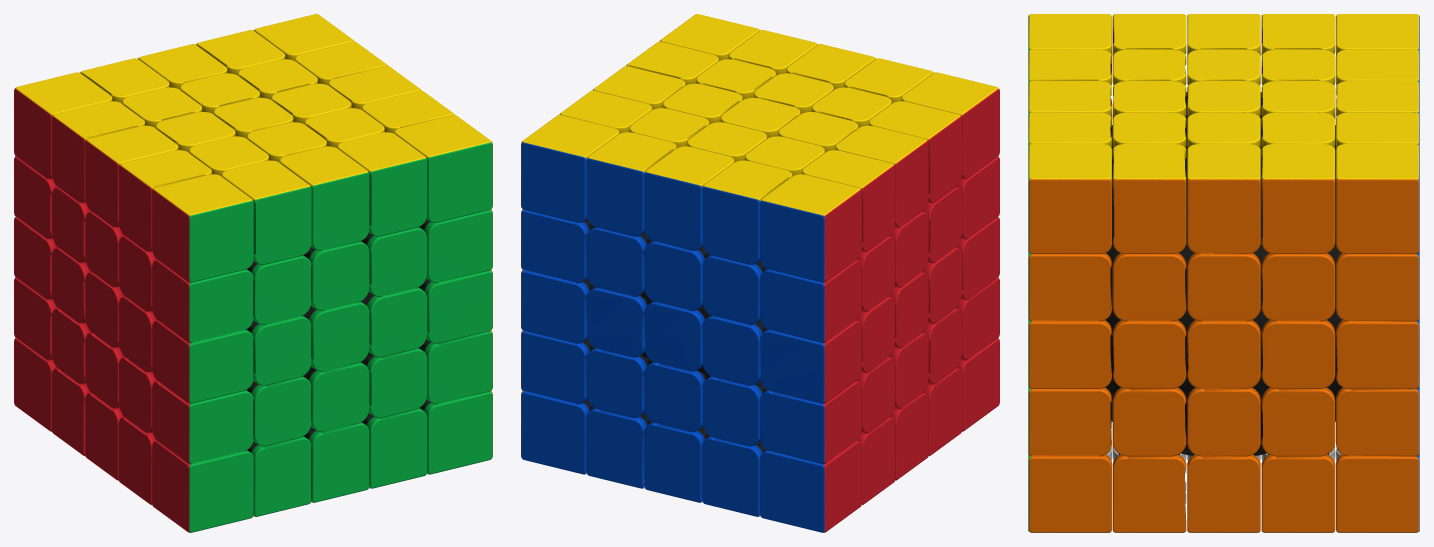
3 views of the same model, side by side, from view 1: azimuth 30°, elevation 25°; view 2: azimuth 150°, elevation 25°; view 3: azimuth 270°, elevation 25° (orthographic). The views are drawn at different scales.
Parts seen in each view (by area): view 1: piece_-2,2,2, piece_-2,-2,2, piece_2,2,2, piece_-2,0,2, piece_-2,-1,2, piece_-2,1,2, piece_1,2,2, piece_0,2,2, piece_-1,2,2, piece_-2,2,-2, piece_2,-2,2, piece_-2,2,-1 (+49 smaller); view 2: piece_-2,2,-2, piece_-2,-2,-2, piece_2,2,-2, piece_-2,0,-2, piece_-2,1,-2, piece_-2,-1,-2, piece_0,2,-2, piece_-1,2,-2, piece_1,2,-2, piece_-2,2,2, piece_2,-2,-2, piece_-2,2,0 (+49 smaller); view 3: piece_2,2,-2, piece_2,2,2, piece_2,2,0, piece_2,2,-1, piece_2,2,1, piece_2,-2,2, piece_2,-2,-2, piece_2,-2,-1, piece_2,-2,0, piece_2,0,2, piece_2,-2,1, piece_2,0,-2 (+34 smaller).
Part boxes in pixels (x1,y1,x2,y2): piece_-2,2,2: (152,174,253,282); piece_-2,-2,2: (152,441,253,532); piece_2,2,2: (394,115,492,222); piece_-2,0,2: (152,320,253,403); piece_-2,-1,2: (152,381,253,464); piece_-2,1,2: (152,260,253,342); piece_1,2,2: (337,132,427,236); piece_0,2,2: (279,146,369,250); piece_-1,2,2: (221,160,311,264); piece_-2,2,-2: (14,72,112,179); piece_2,-2,2: (420,391,492,474); piece_-2,2,-1: (52,101,144,203); piece_-2,2,-2: (760,174,861,282); piece_-2,-2,-2: (760,441,861,532); piece_2,2,-2: (521,115,619,222); piece_-2,0,-2: (760,320,861,403); piece_-2,1,-2: (760,260,861,342); piece_-2,-1,-2: (760,381,861,464); piece_0,2,-2: (644,146,734,250); piece_-1,2,-2: (702,160,792,264); piece_1,2,-2: (586,132,676,236); piece_-2,2,2: (901,72,999,179); piece_2,-2,-2: (521,391,593,474); piece_-2,2,0: (835,125,928,227); piece_2,2,-2: (1336,144,1419,253); piece_2,2,2: (1028,144,1111,253); piece_2,2,0: (1187,144,1260,253); piece_2,2,-1: (1261,144,1335,253); piece_2,2,1: (1112,144,1186,253); piece_2,-2,2: (1028,454,1111,532); piece_2,-2,-2: (1336,454,1419,532); piece_2,-2,-1: (1261,454,1335,532); piece_2,-2,0: (1187,454,1260,532); piece_2,0,2: (1028,320,1111,388); piece_2,-2,1: (1112,454,1186,532); piece_2,0,-2: (1336,320,1419,388).
Bounding box in the file's own units: 2 × 2 × 2.
